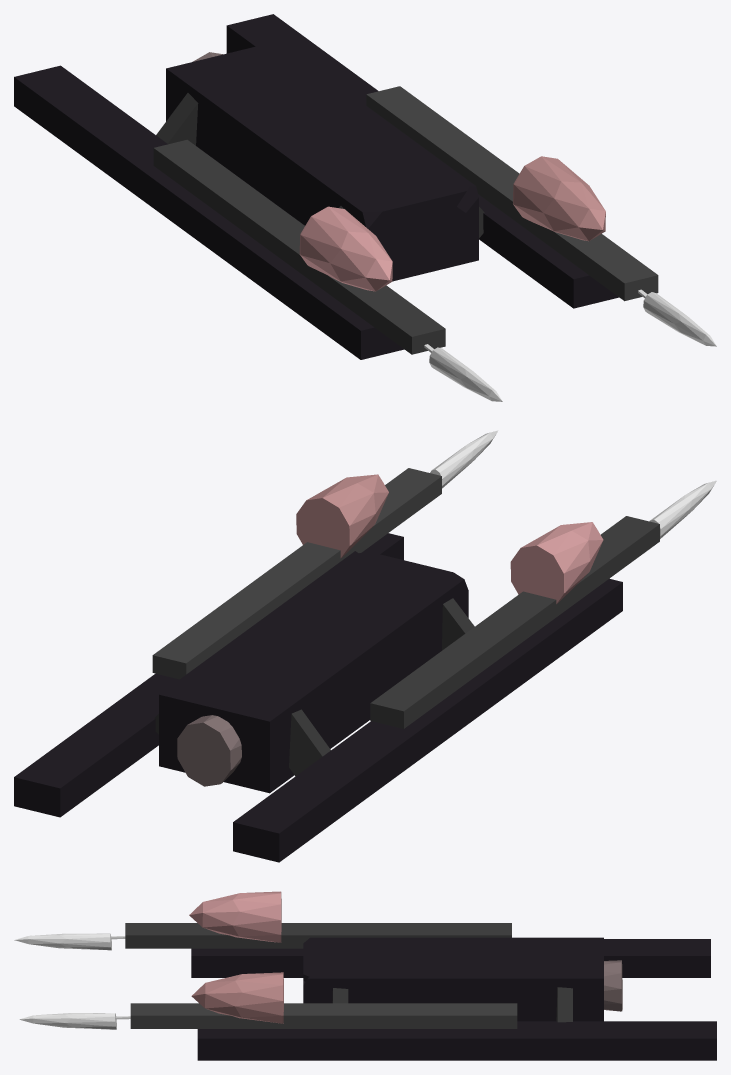
Rendered from spaceship_weapon.dae.
The picture shows the model from 3 angles, top to bottom: view 1: azimuth 30°, elevation 25°; view 2: azimuth 150°, elevation 25°; view 3: azimuth 270°, elevation 25°; orthographic projection. The views are drawn at different scales.
Visible parts, largest first — view 1: arms, Cube, Cube_001, bullet, bullet_004, legs, bullet_002, bullet_001; view 2: arms, Cube, Cube_001, bullet_004, bullet, bullet_003, legs, bullet_002, bullet_001; view 3: arms, Cube_001, Cube, bullet_004, bullet, bullet_001, bullet_002, bullet_003, legs.
Part boxes in pixels (<box>): arms: <box>14,14,618,359</box>; Cube: <box>153,139,445,354</box>; Cube_001: <box>366,86,658,301</box>; bullet: <box>513,156,605,241</box>; bullet_004: <box>299,206,392,291</box>; legs: <box>156,93,484,237</box>; bullet_002: <box>643,292,716,346</box>; bullet_001: <box>429,347,502,401</box>; arms: <box>14,533,622,862</box>; Cube: <box>370,516,659,728</box>; Cube_001: <box>152,468,441,679</box>; bullet_004: <box>510,522,603,603</box>; bullet: <box>296,474,388,558</box>; bullet_003: <box>177,715,241,786</box>; legs: <box>154,598,474,776</box>; bullet_002: <box>430,430,498,488</box>; bullet_001: <box>649,480,716,538</box>; arms: <box>191,937,716,1060</box>; Cube_001: <box>130,1003,517,1028</box>; Cube: <box>125,923,511,948</box>; bullet_004: <box>189,891,281,942</box>; bullet: <box>191,972,283,1023</box>; bullet_001: <box>14,933,111,950</box>; bullet_002: <box>19,1013,116,1029</box>; bullet_003: <box>604,960,622,1011</box>; legs: <box>332,987,572,1022</box>.
Size of the model in its own units: 2.1 by 6.35 by 0.841.
